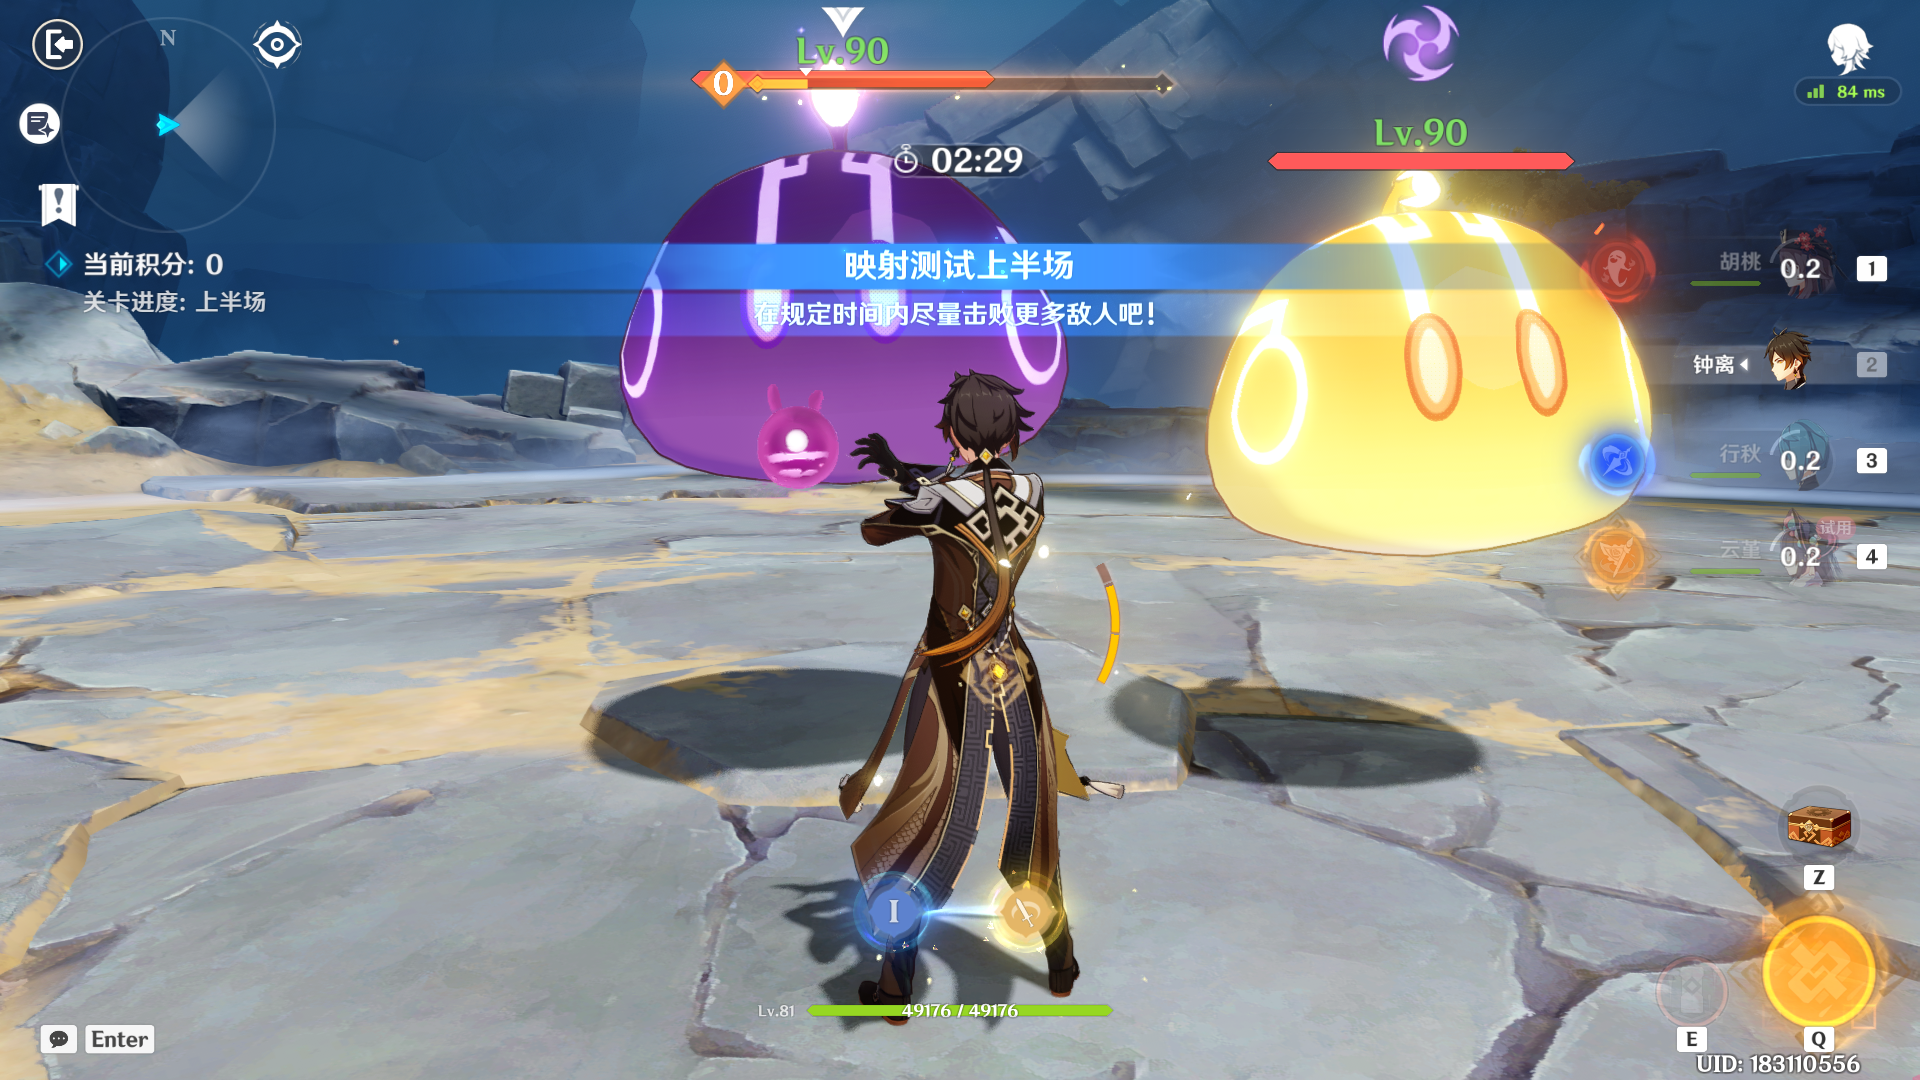character: (808, 344, 1125, 1038)
slime: (582, 107, 1097, 506), (1185, 191, 1677, 587)
